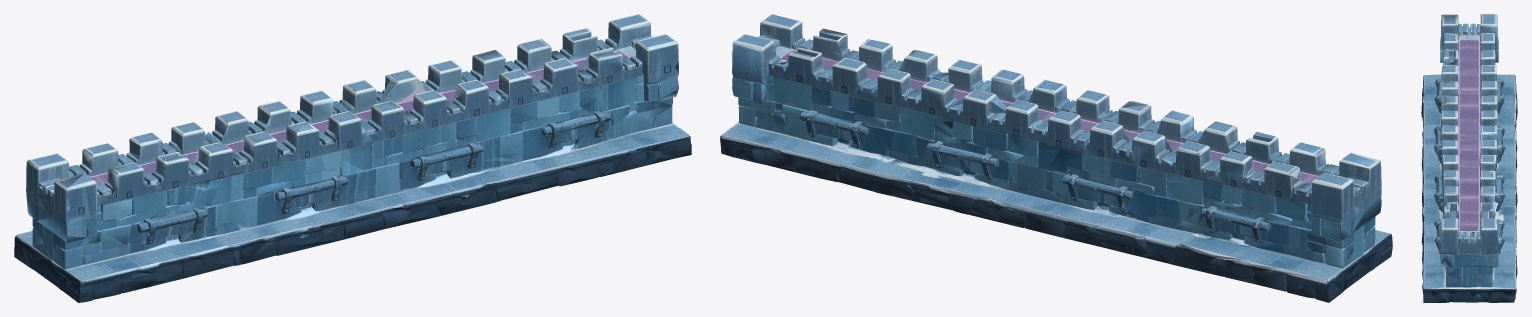
The model's file is mx_sg_wall.glb.
3 renders of one model, left to right at view 1: azimuth 30°, elevation 25°; view 2: azimuth 150°, elevation 25°; view 3: azimuth 270°, elevation 25°, orthographic. The views are drawn at different scales.
Size of the model in its own units: 1.9 by 0.3172 by 0.3618.
1 material, 1 textured.
